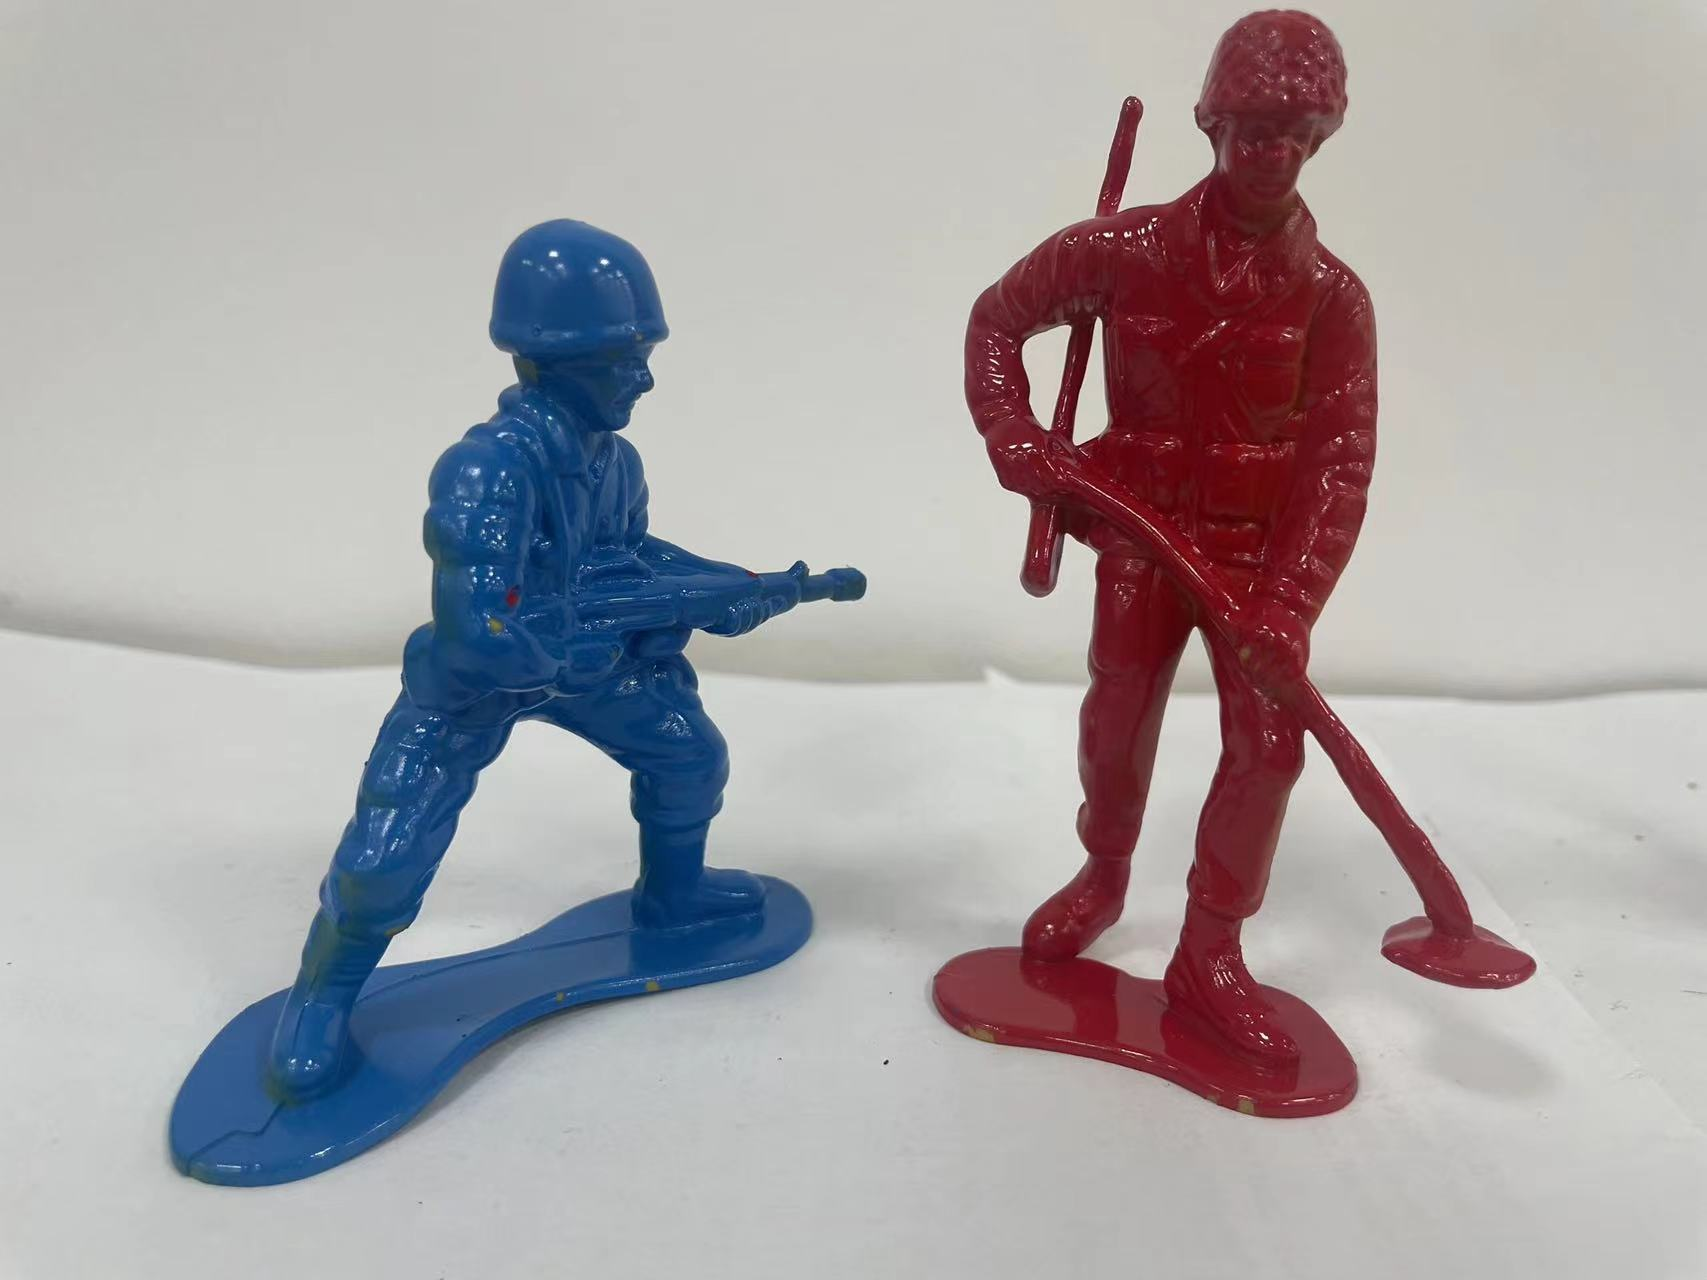blue: (138, 182, 919, 1182)
